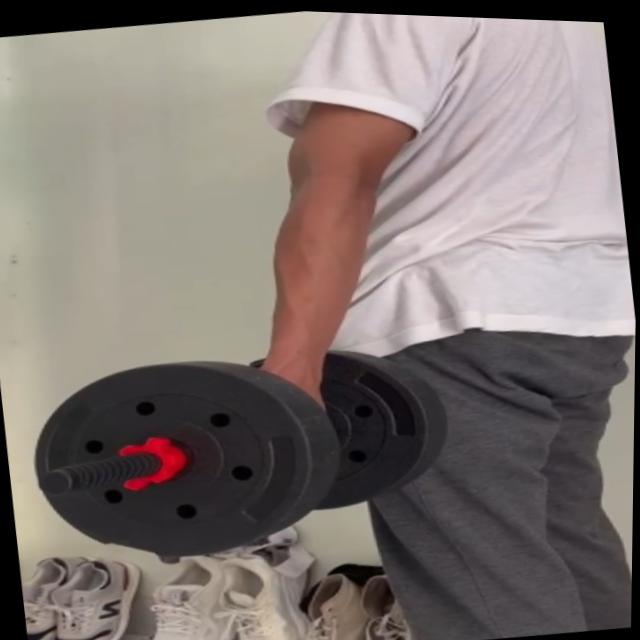dumbbell: (18, 323, 459, 583)
